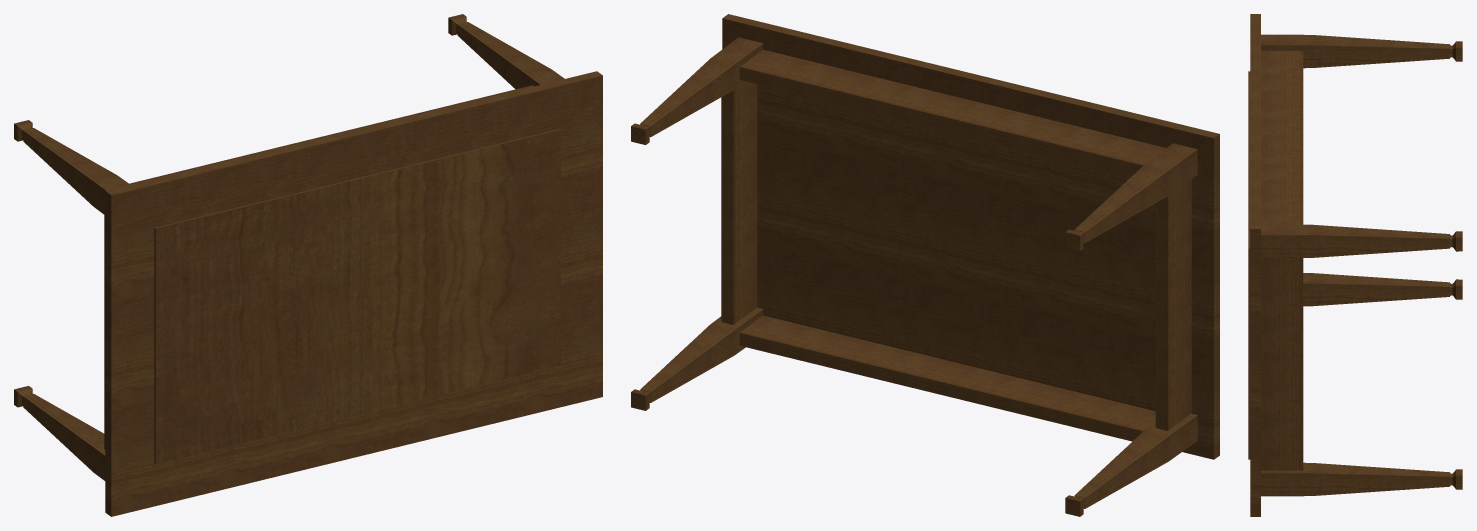
File: tbl034.obj
The picture shows the model from 3 angles, left to right: view 1: azimuth 30°, elevation 25°; view 2: azimuth 150°, elevation 25°; view 3: azimuth 270°, elevation 25°; orthographic projection. The views are drawn at different scales.
Parts seen in each view (by area): view 1: Box05, Box06, Loft08, Loft05, Loft07, Rectangle2; view 2: Box06, Rectangle2, Rectangle0, Rectangle1, Rectangle3, Loft08, Loft05, Loft07, Loft06; view 3: Rectangle3, Rectangle2, Box06, Loft07, Loft06, Loft08, Loft05, Box05.
Boxes of the visible parts, left/top/right/bottom form: Box05: left=154, top=129, right=560, bottom=464; Box06: left=105, top=71, right=602, bottom=516; Loft08: left=14, top=120, right=130, bottom=214; Loft05: left=14, top=386, right=105, bottom=480; Loft07: left=448, top=14, right=564, bottom=89; Rectangle2: left=129, top=85, right=533, bottom=184; Box06: left=722, top=14, right=1219, bottom=459; Rectangle2: left=739, top=50, right=1166, bottom=175; Rectangle0: left=739, top=315, right=1155, bottom=441; Rectangle1: left=1155, top=179, right=1191, bottom=430; Rectangle3: left=721, top=81, right=757, bottom=324; Loft08: left=1065, top=143, right=1197, bottom=250; Loft05: left=1065, top=413, right=1197, bottom=516; Loft07: left=631, top=37, right=763, bottom=144; Loft06: left=631, top=307, right=763, bottom=410; Rectangle3: left=1261, top=258, right=1303, bottom=470; Rectangle2: left=1261, top=51, right=1303, bottom=224; Box06: left=1250, top=14, right=1260, bottom=516; Loft07: left=1261, top=224, right=1462, bottom=258; Loft06: left=1261, top=462, right=1462, bottom=496; Loft08: left=1261, top=34, right=1462, bottom=68; Loft05: left=1303, top=273, right=1462, bottom=306; Box05: left=1248, top=71, right=1250, bottom=459.
Bounding box in the file's own units: 1200 × 750 × 506.
Materials: 2 (2 with a texture image).
